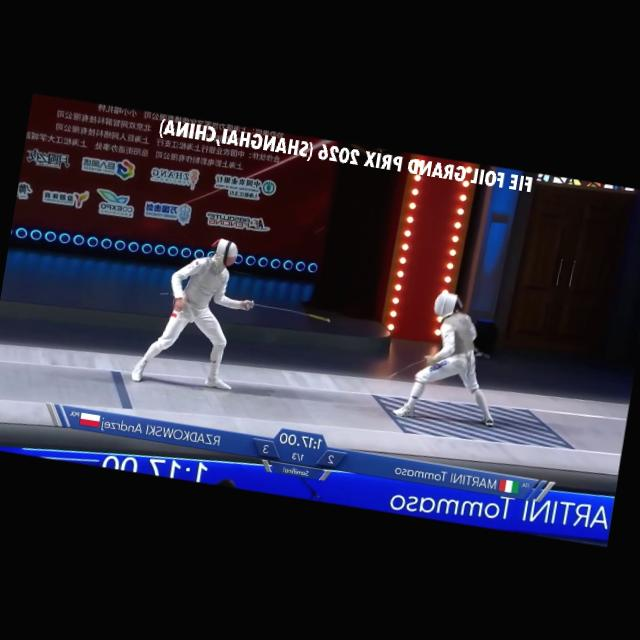blade: (368, 340, 438, 404), (238, 296, 336, 330)
